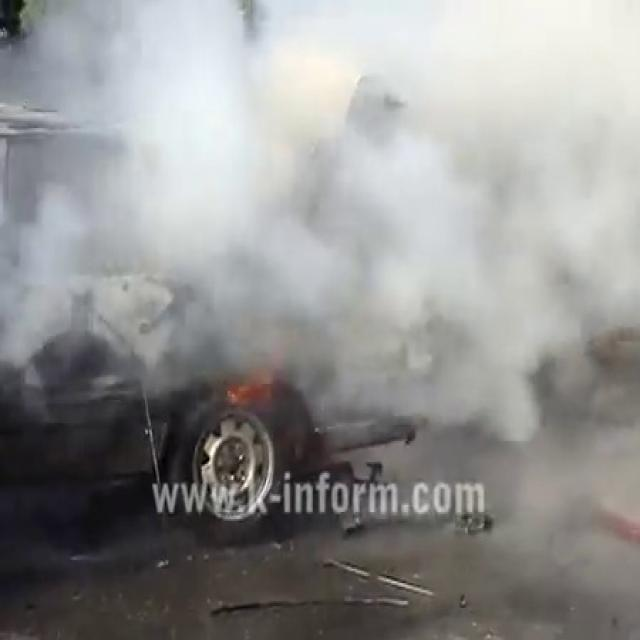Smoke: (1, 1, 640, 422)
